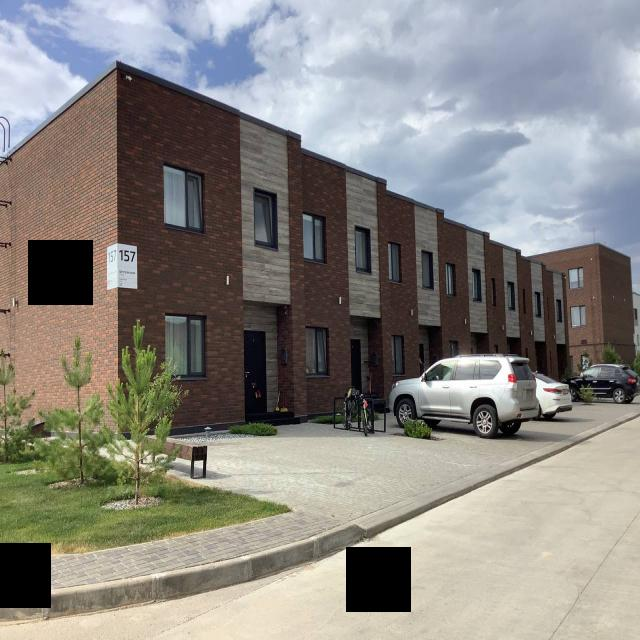Building: (0, 62, 571, 434)
